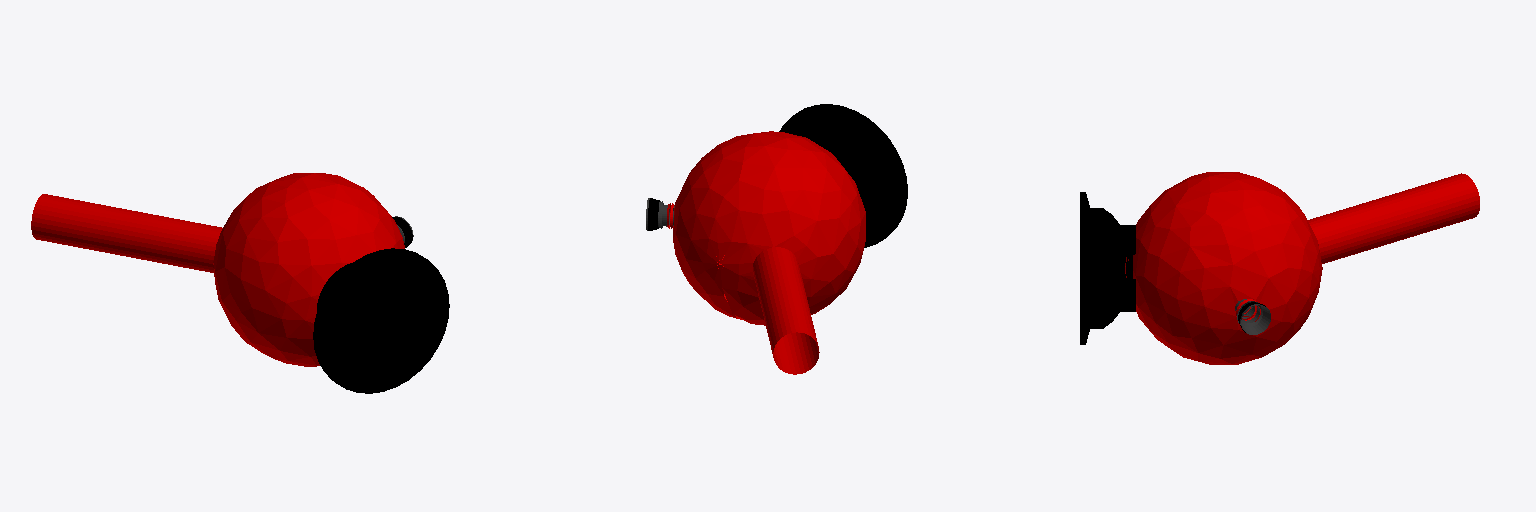
The model's file is bong.obj.
3 renders of one model, left to right at view 1: azimuth 30°, elevation 25°; view 2: azimuth 150°, elevation 25°; view 3: azimuth 270°, elevation 25°, orthographic.
Parts seen in each view (by area): view 1: bong_Sphere; view 2: bong_Sphere; view 3: bong_Sphere.
Boxes of the visible parts, box(x1,y1,x2,y2) form: bong_Sphere: box(31, 173, 449, 393); bong_Sphere: box(646, 104, 907, 374); bong_Sphere: box(1080, 172, 1479, 364).
Size of the model in its own units: 3.41 by 2.08 by 4.28.